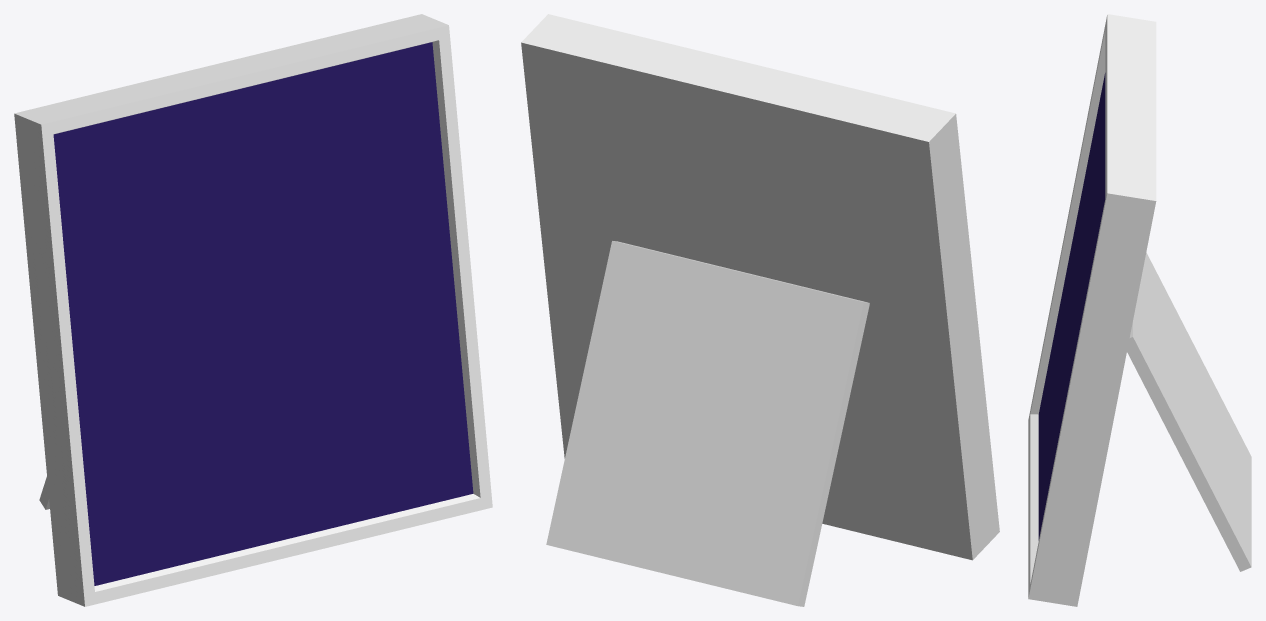
Rendered from Picture Frame_26.fbx.
3 renders of one model, left to right at view 1: azimuth 30°, elevation 25°; view 2: azimuth 150°, elevation 25°; view 3: azimuth 270°, elevation 25°, orthographic. The views are drawn at different scales.
Visible parts, largest first — view 1: Picture Frame_26; view 2: Picture Frame_26; view 3: Picture Frame_26.
Boxes of the visible parts, x1,y1,x2,y2 form: Picture Frame_26: [14, 14, 492, 606]; Picture Frame_26: [521, 14, 999, 606]; Picture Frame_26: [1028, 14, 1251, 606].
Bounding box in the file's own units: 0.1413 × 0.152 × 0.0743.
